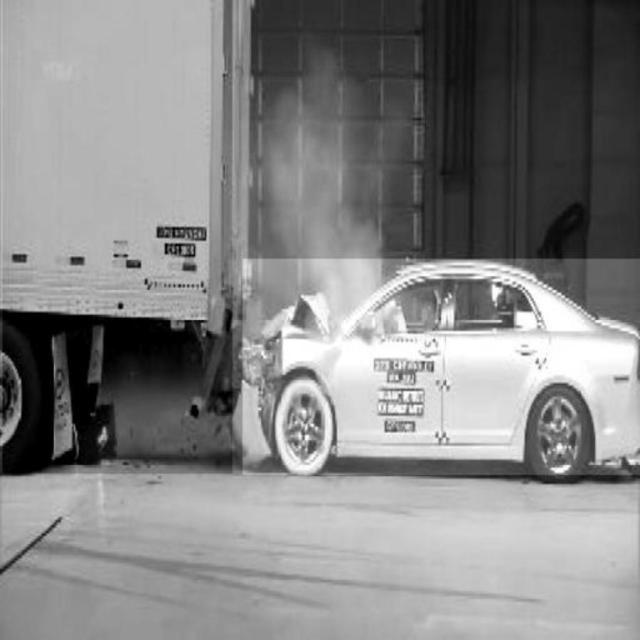vehicle: (2, 0, 233, 474), (243, 259, 640, 475)
